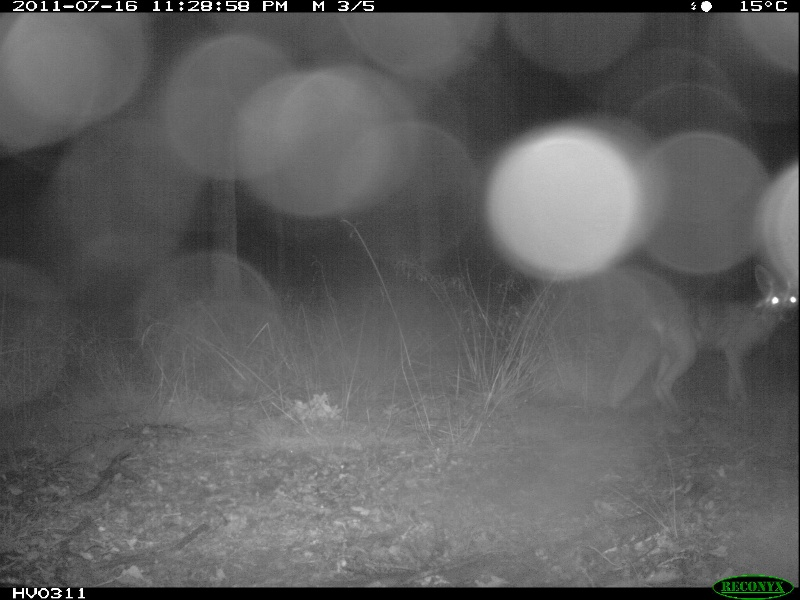fox: (608, 273, 800, 410)
